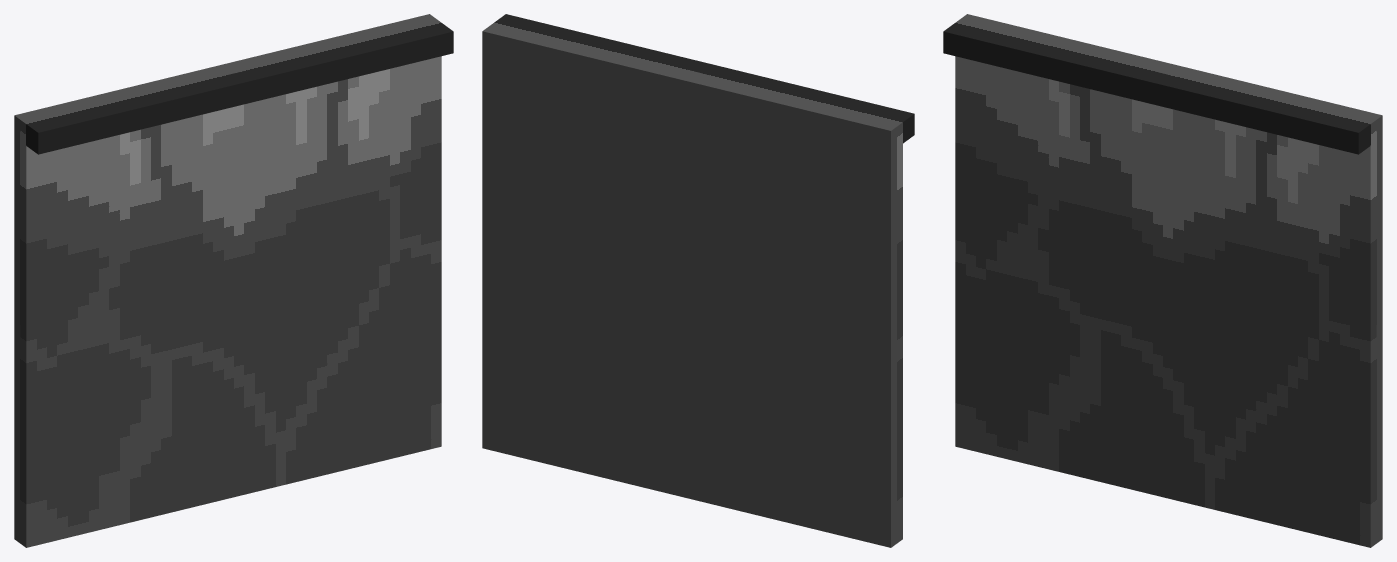
Rendered from WallNether_MR.fbx.
3 renders of one model, left to right at view 1: azimuth 30°, elevation 25°; view 2: azimuth 150°, elevation 25°; view 3: azimuth 330°, elevation 25°, orthographic.
Parts seen in each view (by area): view 1: wallnether_mr.wallnether_mr-0; view 2: wallnether_mr.wallnether_mr-0; view 3: wallnether_mr.wallnether_mr-0.
Boxes of the visible parts, x1,y1,x2,y2 form: wallnether_mr.wallnether_mr-0: [14, 14, 453, 547]; wallnether_mr.wallnether_mr-0: [482, 14, 914, 547]; wallnether_mr.wallnether_mr-0: [943, 14, 1382, 547].
Size of the model in its own units: 400 by 390 by 40.
